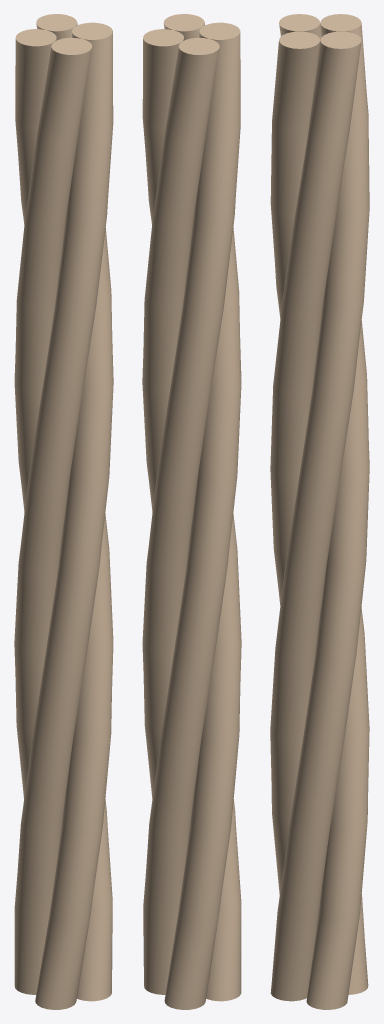
File: Rope.fbx
3 views of the same model, side by side, from view 1: azimuth 30°, elevation 25°; view 2: azimuth 210°, elevation 25°; view 3: azimuth 330°, elevation 25° (orthographic).
Parts seen in each view (by area): view 1: pCylinder24; view 2: pCylinder24; view 3: pCylinder24.
Part boxes in pixels (x1,y1,x2,y2): pCylinder24: (14, 14, 113, 1009); pCylinder24: (142, 14, 241, 1009); pCylinder24: (270, 14, 369, 1009).
Size of the model in its own units: 2.28 by 24.25 by 2.28.
